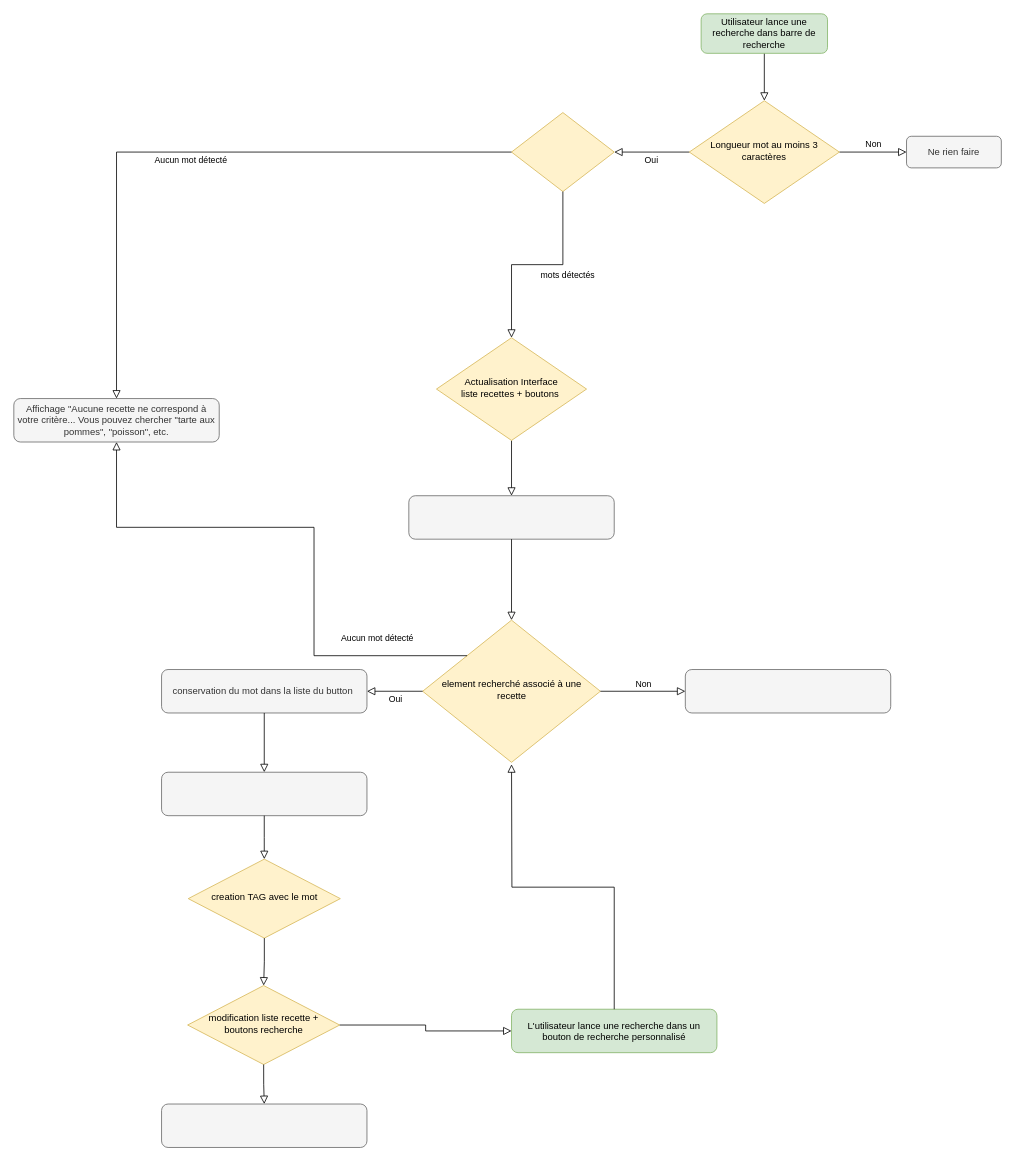
This 1015x1161 diagram has some shape labels left out. The box of each missing label's shape, as (x1, y1, x2, y2) in pixels:
L'utilisateur clique sur un mot: (161, 771, 367, 816)
L'utilisateur peut sélectionner une recette correspondante à sa recherche: (161, 1103, 367, 1147)
Précision recherche dans bouton Ingredient/Appareil/Ustensile: (408, 495, 614, 539)
recherche database: (511, 112, 614, 192)
Suppression du mot dans la liste bouton: (685, 669, 891, 713)
